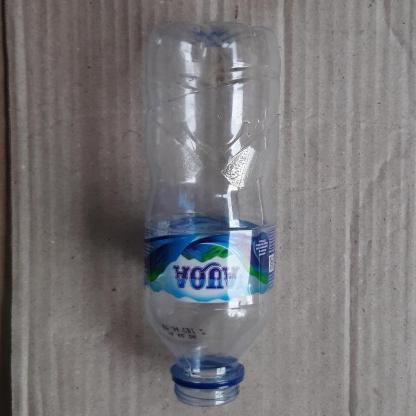Plastic Bottle: (141, 23, 281, 407)
